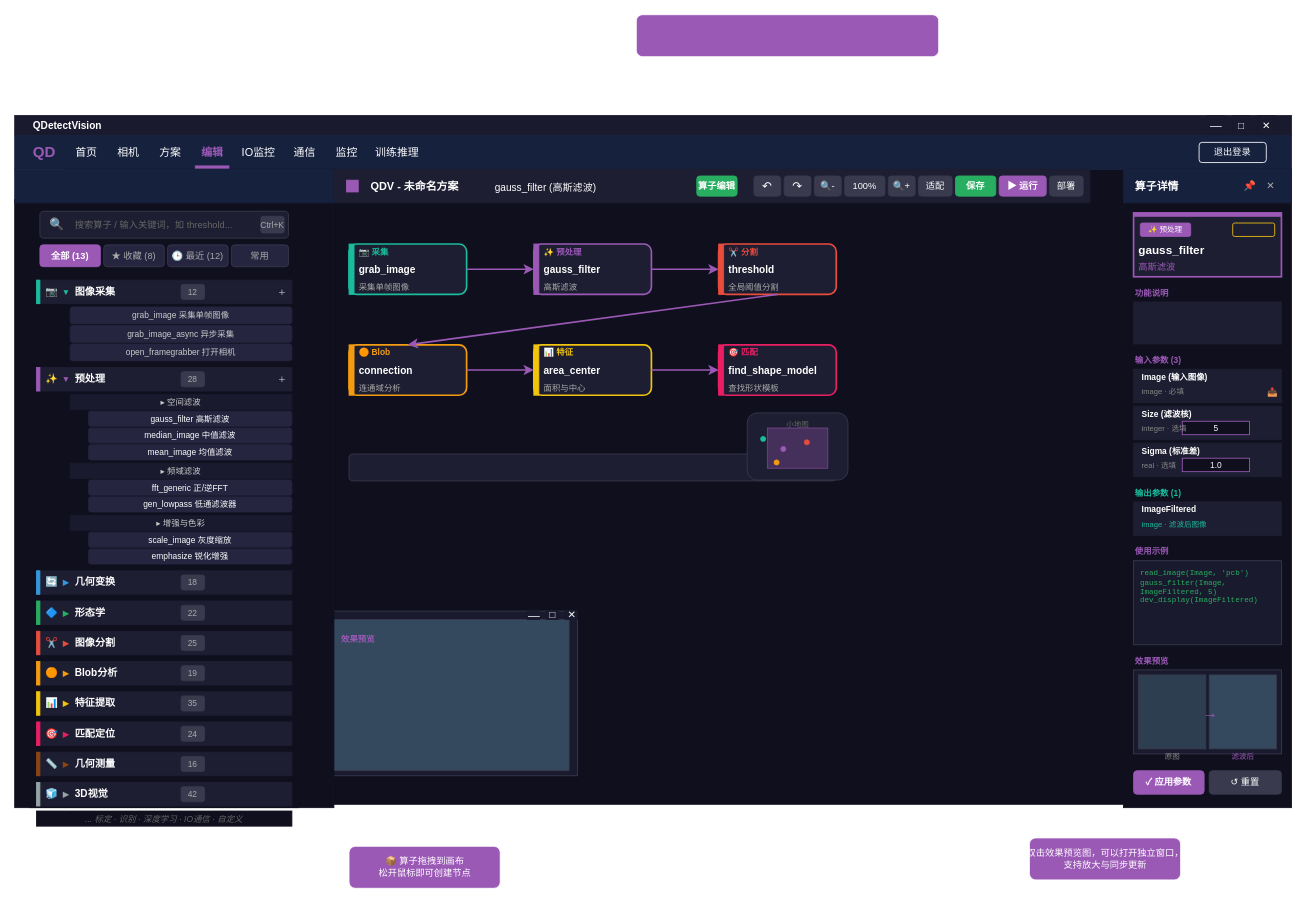
This 1306x903 diagram has some shape labels left out. Each missing label, with the centre of its shape:
★ 收藏: the point at 1253,229
使用高斯核对图像进行平滑滤波，抑制高斯噪声。常用于预处理阶段。: the point at 1207,322
算子库: the point at 174,185
💡 双击空白处添加节点 · 拖拽算子到此处 · Shift+框选 · 滚轮缩放: the point at 592,467
📦 算子编辑按钮，可以进入新增自定义算子界面，为算子库增加新算子: the point at 787,35
